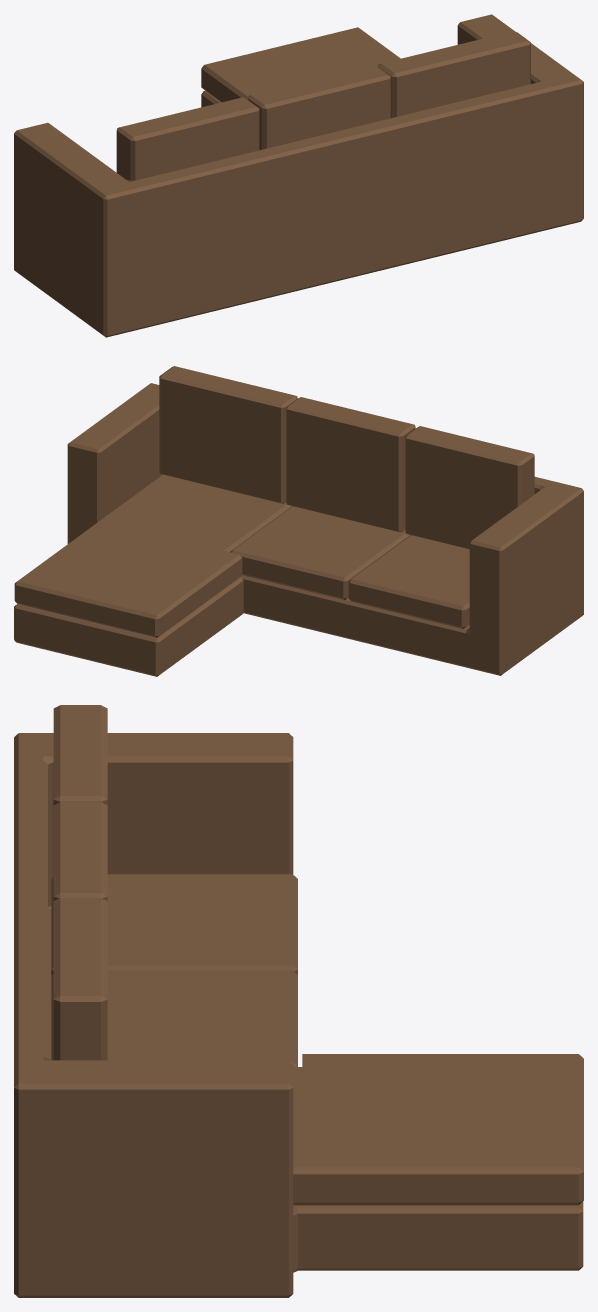
Rendered from sofa.gltf.
The picture shows the model from 3 angles, top to bottom: view 1: azimuth 30°, elevation 25°; view 2: azimuth 150°, elevation 25°; view 3: azimuth 270°, elevation 25°; orthographic projection. The views are drawn at different scales.
Visible parts, largest first — view 1: Cube.001; view 2: Cube.001; view 3: Cube.001.
Boxes of the visible parts, bbox=[...] form: Cube.001: bbox=[14, 14, 583, 337]; Cube.001: bbox=[14, 366, 583, 676]; Cube.001: bbox=[14, 705, 583, 1297].
Bounding box in the file's own units: 6 × 2.15 × 4.08.
Materials: 1 (1 with a texture image).
